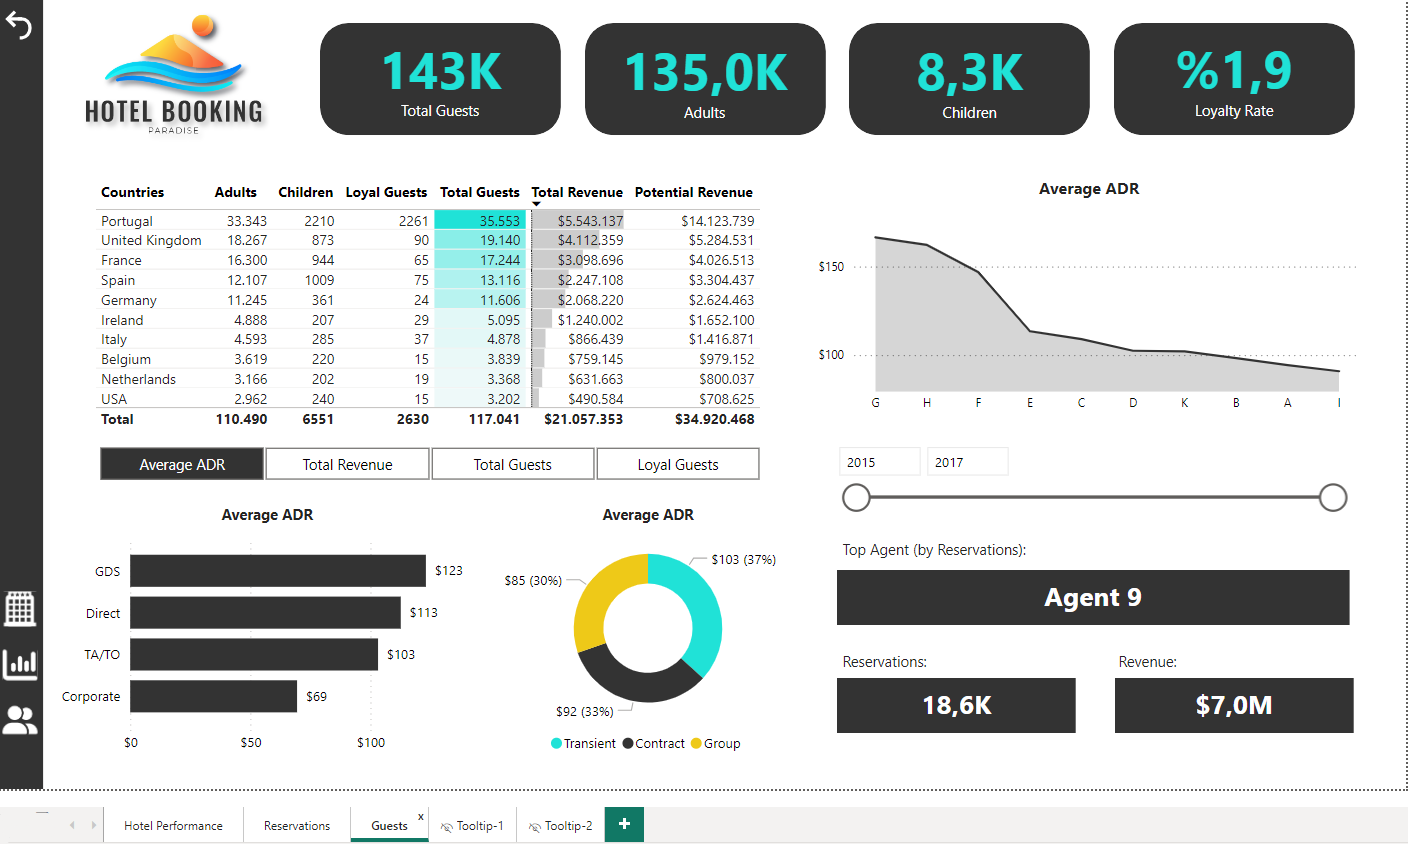

The dashboard page shown, as its layout file describes it:
{"tool":"powerbi","page":{"name":"Guests","canvas":[1280,720],"ordinal":2},"visuals":[{"type":"shape","title":"Left Nav Background","box":[0,0,41,720],"z":0},{"type":"shape","box":[292.7,23.7,219,102],"z":0,"group":"g2"},{"type":"card","fields":{"Values":["Measures_Table.Total Guests"]},"box":[295.7,23.7,213,98],"z":0,"group":"g3"},{"type":"group","id":"g1","title":"KPIs","box":[292.7,23.7,941,102],"z":1000},{"type":"shape","box":[533.4,23.7,219,102],"z":1000,"group":"g2"},{"type":"card","fields":{"Values":["Measures_Table.Number of Adults"]},"box":[536.7,25.7,212,97],"z":1000,"group":"g3"},{"type":"shape","box":[774,23.7,219,102],"z":2000,"group":"g2"},{"type":"card","fields":{"Values":["Measures_Table.Number of Children"]},"box":[776.7,25.7,214,97],"z":2000,"group":"g3"},{"type":"donutChart","fields":{"Y":["Measures_Table.Average ADR"],"Category":["hotel_bookings.customer_type"]},"box":[441,462,300,235],"z":2000},{"type":"actionButton","box":[0,637.2,40.9,40],"z":2000,"group":"g4"},{"type":"shape","box":[1014.7,23.7,219,102],"z":3000,"group":"g2"},{"type":"card","fields":{"Values":["Measures_Table.Lotalty Rate"]},"box":[1017.7,23.7,213,97],"z":3000,"group":"g3"},{"type":"slicer","fields":{"Values":["Guest Metric Selection.Guest Metric Selection"]},"box":[67,403,649,43],"z":3000},{"type":"actionButton","box":[0,536,41,40],"z":3000,"group":"g4"},{"type":"clusteredBarChart","fields":{"Y":["Measures_Table.Average ADR"],"Category":["hotel_bookings.distribution_channel"]},"box":[48,462,393,234],"z":4000},{"type":"actionButton","box":[0,586.6,40.9,40],"z":4000,"group":"g4"},{"type":"tableEx","title":"Top 10 Countries","fields":{"Values":["hotel_bookings.country_name","Measures_Table.Adults","Measures_Table.Children","Measures_Table.Loyal Guests","Measures_Table.Total Guests","Measures_Table.Total Revenue","Measures_Table.Potential Revenue"]},"box":[83,163,617,240],"z":5000},{"type":"group","id":"g2","title":"KPI Cards","box":[292.7,23.7,941,102],"z":6000,"group":"g1"},{"type":"areaChart","fields":{"Y":["Measures_Table.Average ADR"],"Category":["hotel_bookings.assigned_room_type"]},"box":[741,163,502,224],"z":6000},{"type":"group","id":"g3","title":"KPI Values","box":[295.7,23.7,935,99],"z":6500,"group":"g1"},{"type":"card","fields":{"Values":["Min(hotel_bookings.agent)"]},"box":[763,521,466,50],"z":7000},{"type":"textbox","box":[763,488,190,33],"z":8000},{"type":"slicer","fields":{"Values":["hotel_bookings.reservation_status_date.Variation.Date Hierarchy.Year"]},"box":[752,399,483,82],"z":9000},{"type":"textbox","box":[763,590,190,33],"z":10000},{"type":"textbox","box":[1014,590,106,33],"z":11000},{"type":"card","fields":{"Values":["Measures_Table.Actual Reservations"]},"box":[763,619,217,50],"z":12000},{"type":"card","fields":{"Values":["Measures_Table.Total Revenue"]},"box":[1015,619,217,50],"z":13000},{"type":"group","id":"g4","title":"Navigation Buttons","box":[0,536,41,141.2],"z":14000},{"type":"image","box":[59,7,207,135],"z":15000},{"type":"actionButton","box":[0.5,7,41,36],"z":16000}]}

Visuals, with their boxes on the page's 1280x720 design canvas (x1, y1, x2, y2). These are canvas units, not pixel positions in the 1408x844 screenshot, which may show the page scaled, cropped or inside an application window:
"Left Nav Background" shape: rect(0, 0, 41, 720)
shape: rect(293, 24, 512, 126)
card - Measures_Table.Total Guests: rect(296, 24, 509, 122)
"KPIs" group: rect(293, 24, 1234, 126)
shape: rect(533, 24, 752, 126)
card - Measures_Table.Number of Adults: rect(537, 26, 749, 123)
shape: rect(774, 24, 993, 126)
card - Measures_Table.Number of Children: rect(777, 26, 991, 123)
donutChart - Measures_Table.Average ADR x hotel_bookings.customer_type: rect(441, 462, 741, 697)
actionButton: rect(0, 637, 41, 677)
shape: rect(1015, 24, 1234, 126)
card - Measures_Table.Lotalty Rate: rect(1018, 24, 1231, 121)
slicer - Guest Metric Selection.Guest Metric Selection: rect(67, 403, 716, 446)
actionButton: rect(0, 536, 41, 576)
clusteredBarChart - Measures_Table.Average ADR x hotel_bookings.distribution_channel: rect(48, 462, 441, 696)
actionButton: rect(0, 587, 41, 627)
"Top 10 Countries" tableEx: rect(83, 163, 700, 403)
"KPI Cards" group: rect(293, 24, 1234, 126)
areaChart - Measures_Table.Average ADR x hotel_bookings.assigned_room_type: rect(741, 163, 1243, 387)
"KPI Values" group: rect(296, 24, 1231, 123)
card - Min(hotel_bookings.agent): rect(763, 521, 1229, 571)
textbox: rect(763, 488, 953, 521)
slicer - hotel_bookings.reservation_status_date.Variation.Date Hierarchy.Year: rect(752, 399, 1235, 481)
textbox: rect(763, 590, 953, 623)
textbox: rect(1014, 590, 1120, 623)
card - Measures_Table.Actual Reservations: rect(763, 619, 980, 669)
card - Measures_Table.Total Revenue: rect(1015, 619, 1232, 669)
"Navigation Buttons" group: rect(0, 536, 41, 677)
image: rect(59, 7, 266, 142)
actionButton: rect(0, 7, 42, 43)
